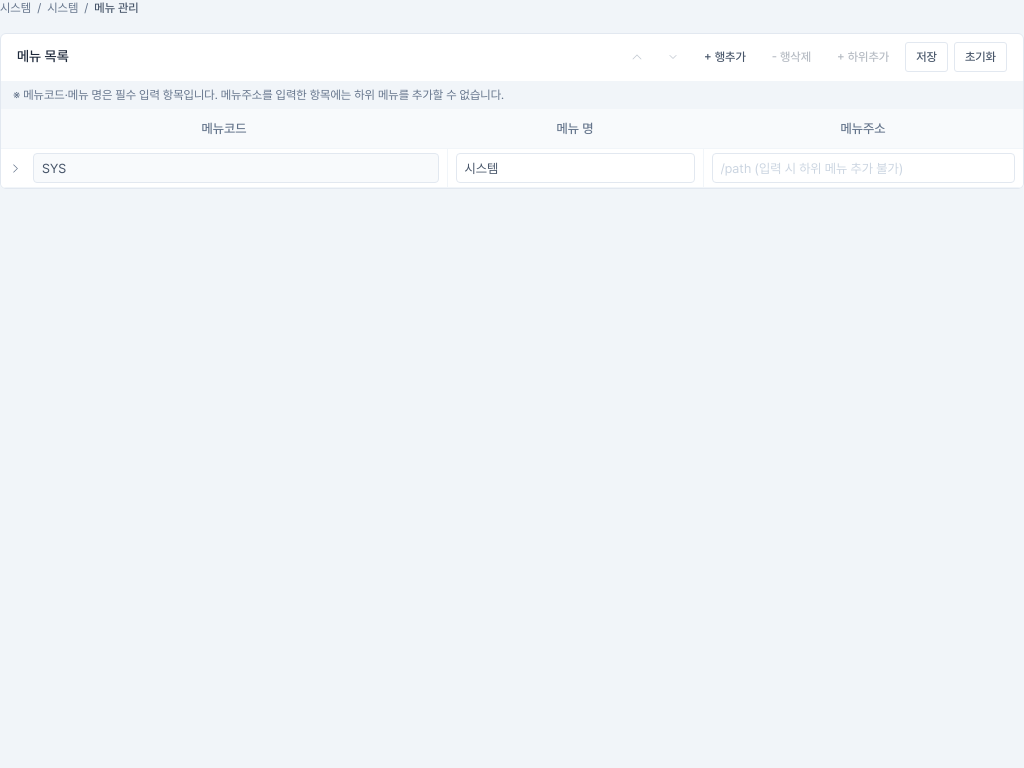
SystemMenuPage › sends updated menu rows to the save API
Click the button named "펼치기" at (15, 168), box [5,158,25,178]
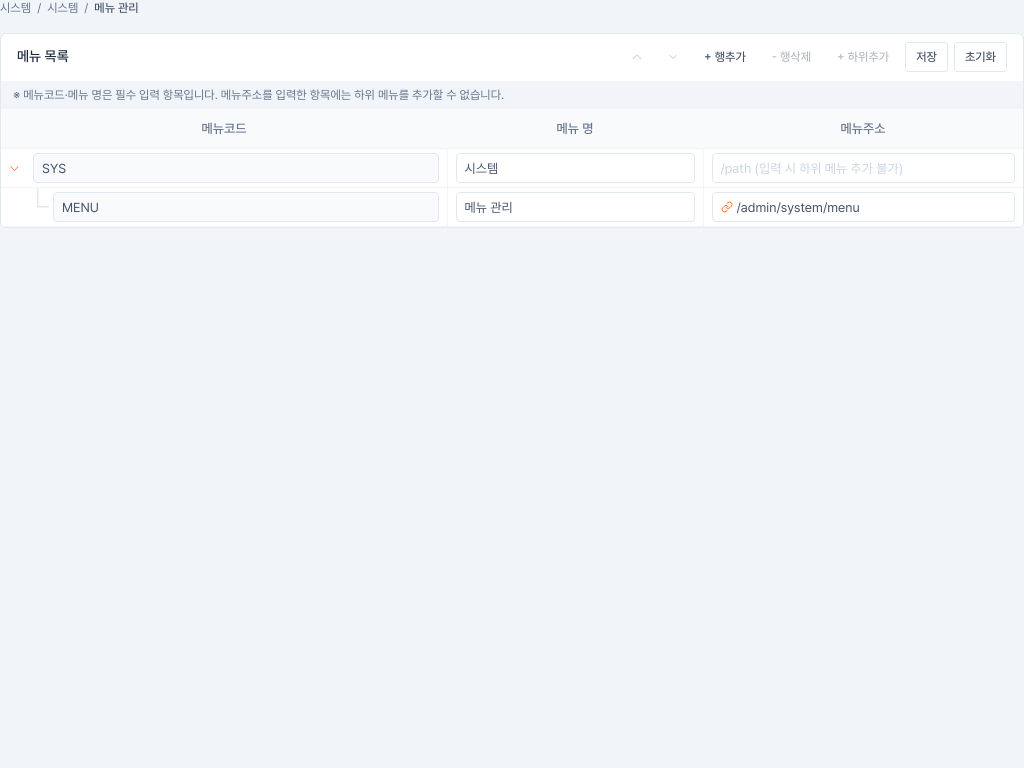
Replace the text in the field named "MENU 메뉴명" with "메뉴 관리 수정" at (575, 207), box [464,193,686,221]
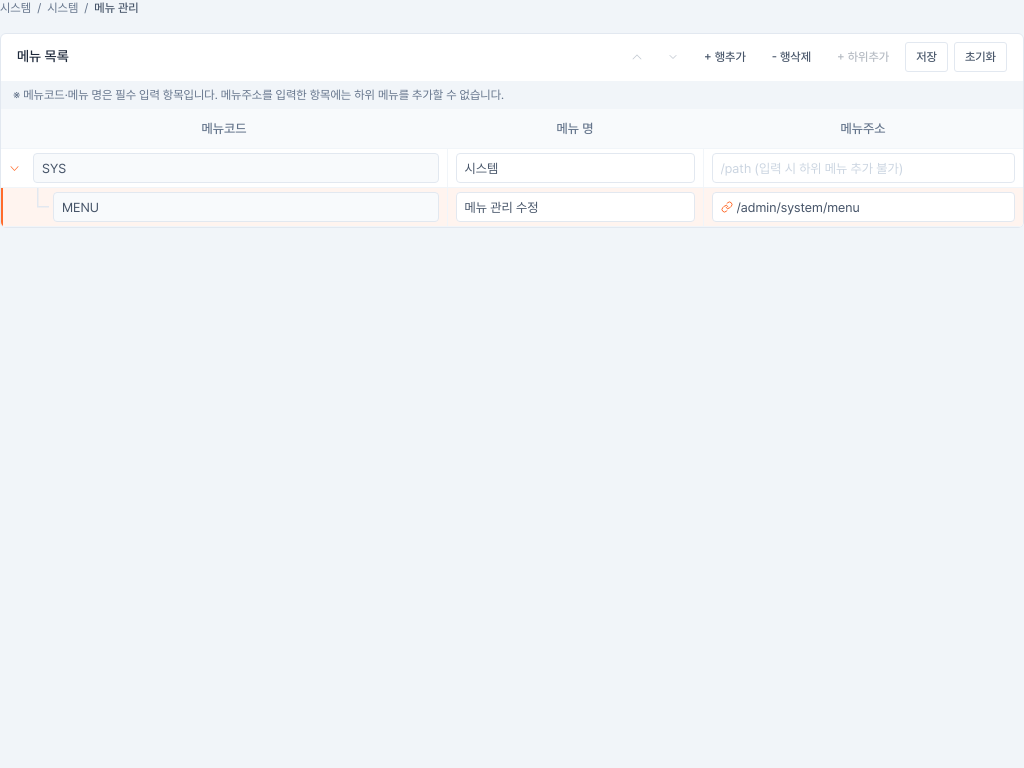
Click the button "저장" at (926, 57), box [905,42,948,72]
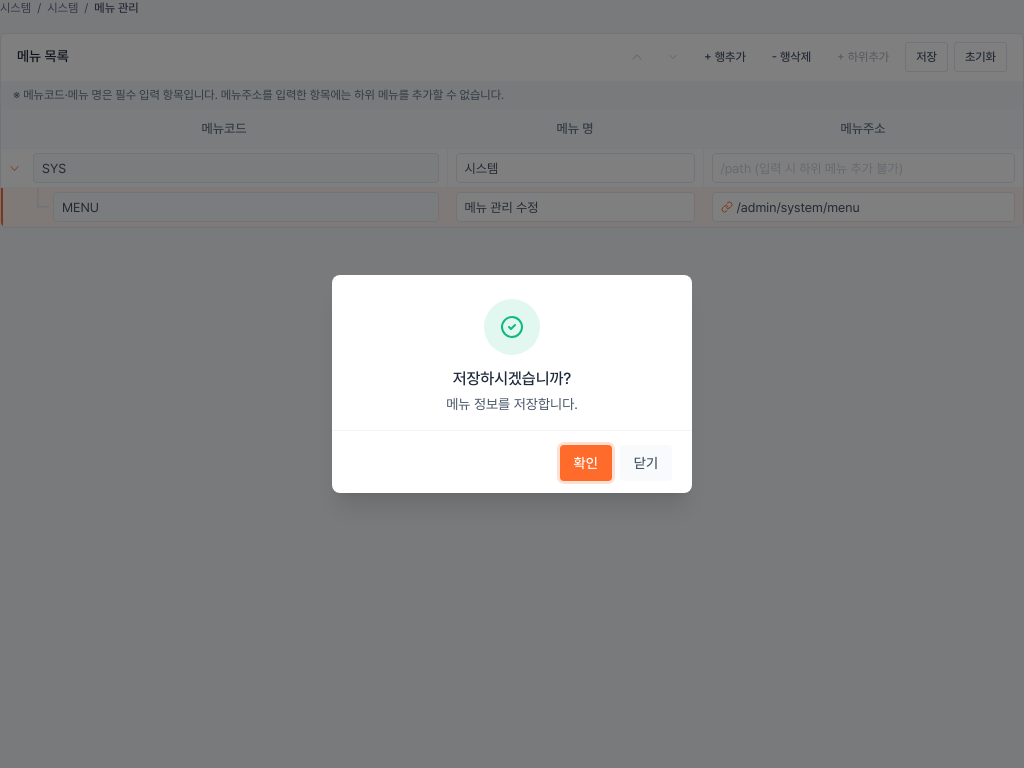
Click the button "확인" at (586, 463), box [560,445,612,481]
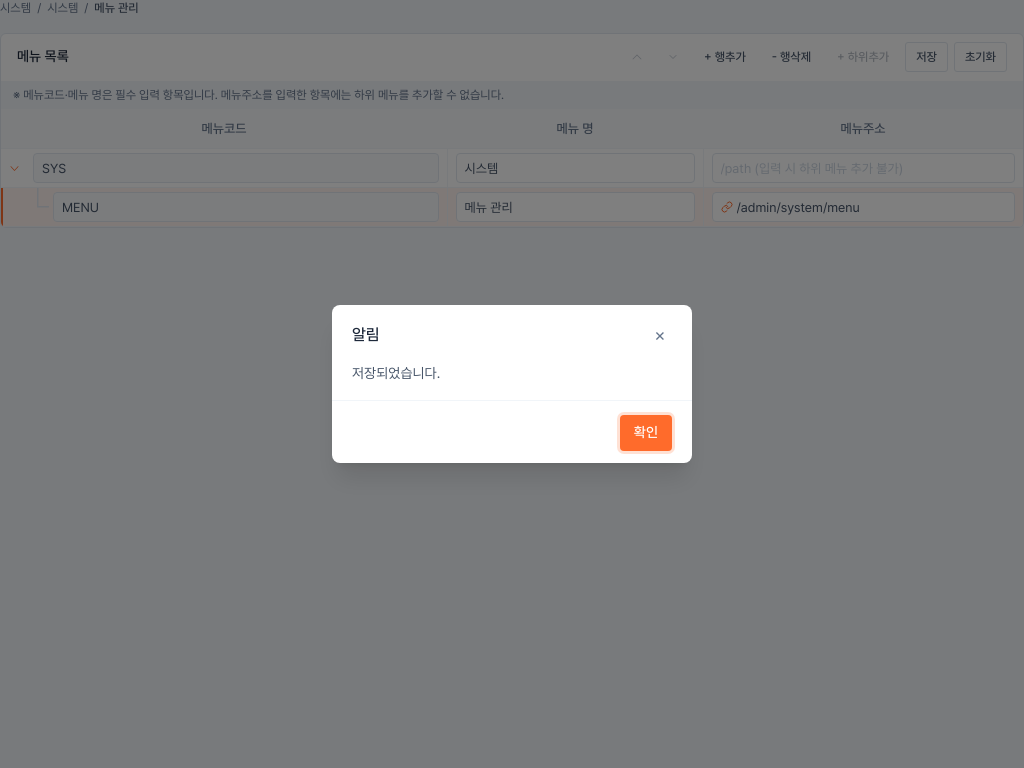
Expected: the dialog "알림" shows "저장되었습니다.", [352,365,440,381]
